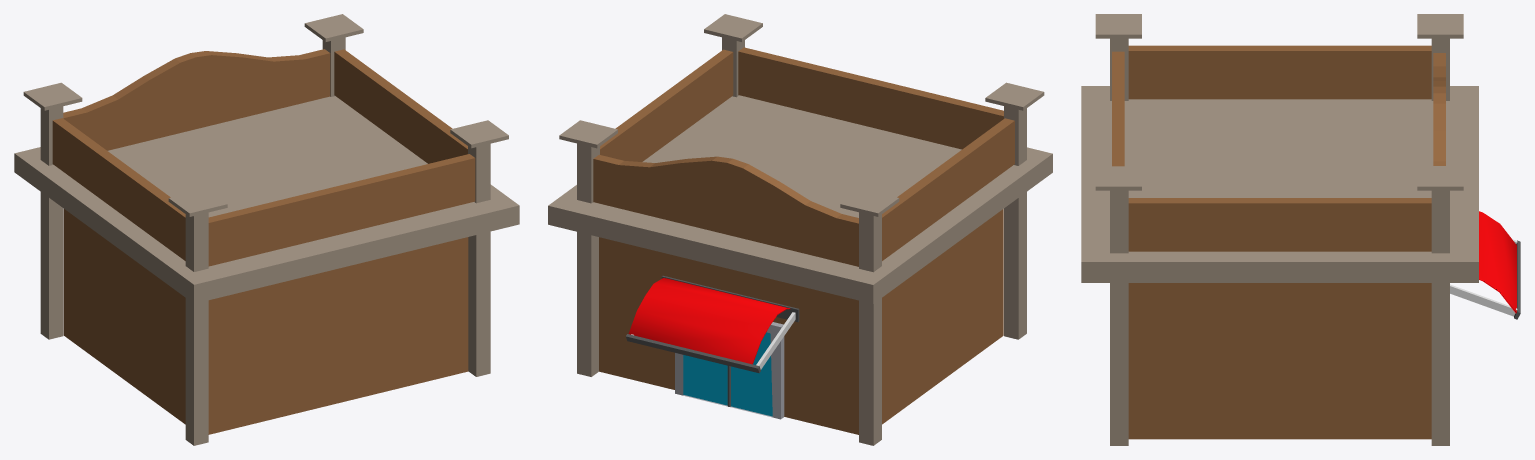
File: bakkary.fbx
3 views of the same model, side by side, from view 1: azimuth 30°, elevation 25°; view 2: azimuth 150°, elevation 25°; view 3: azimuth 270°, elevation 25° (orthographic). The views are drawn at different scales.
Visible parts, largest first — view 1: Cube, Cube.003, Cube.006, Cube.024, Cube.014, Cube.023, Cube.015, Cube.019, Cube.005, Cube.012, Cube.018, Cube.009 (+2 smaller); view 2: Cube, Cube.003, Cube.006, Cube.024, Cube.008, Cube.014, Cube.023, Cube.005, Cube.004, Cube.015, Plane.004, Plane.003 (+8 smaller); view 3: Cube.003, Cube, Cube.014, Cube.023, Cube.019, Cube.004, Cube.008, Cube.024, Cube.006, Cube.009, Cube.012, Cube.018 (+4 smaller).
Boxes of the visible parts, x1,y1,x2,y2 form: Cube: [63, 209, 468, 434]; Cube.003: [14, 96, 519, 303]; Cube.006: [63, 49, 330, 150]; Cube.024: [208, 154, 475, 266]; Cube.014: [52, 118, 185, 260]; Cube.023: [334, 49, 467, 163]; Cube.015: [185, 212, 208, 445]; Cube.019: [468, 143, 490, 376]; Cube.005: [40, 106, 63, 339]; Cube.012: [23, 82, 82, 110]; Cube.018: [168, 189, 227, 216]; Cube.009: [304, 14, 363, 41]; Cube: [599, 209, 1003, 434]; Cube.003: [548, 95, 1052, 303]; Cube.006: [593, 154, 858, 266]; Cube.024: [738, 47, 1003, 149]; Cube.008: [628, 278, 790, 364]; Cube.014: [882, 118, 1014, 260]; Cube.023: [600, 49, 733, 161]; Cube.005: [859, 212, 881, 445]; Cube.004: [577, 143, 599, 376]; Cube.015: [1004, 106, 1026, 339]; Plane.004: [731, 332, 772, 416]; Plane.003: [683, 355, 727, 405]; Cube.003: [1081, 86, 1478, 282]; Cube: [1128, 283, 1431, 439]; Cube.014: [1128, 45, 1431, 99]; Cube.023: [1128, 198, 1431, 251]; Cube.019: [1110, 190, 1128, 445]; Cube.004: [1431, 190, 1449, 445]; Cube.008: [1479, 211, 1516, 313]; Cube.024: [1112, 51, 1124, 166]; Cube.006: [1433, 53, 1445, 165]; Cube.009: [1417, 166, 1463, 190]; Cube.012: [1417, 14, 1463, 38]; Cube.018: [1095, 14, 1141, 38].
Bounding box in the file's own units: 2243 × 1621 × 2369.
